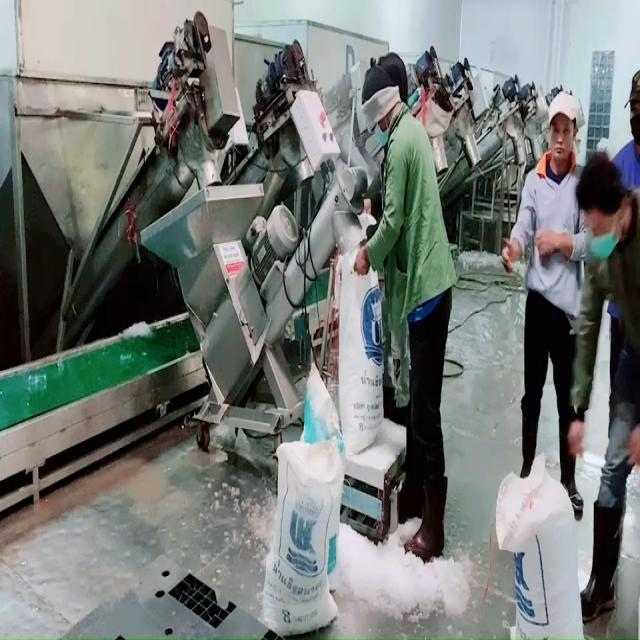ice-bag: (262, 404, 346, 640), (493, 459, 591, 640), (334, 250, 390, 454)
